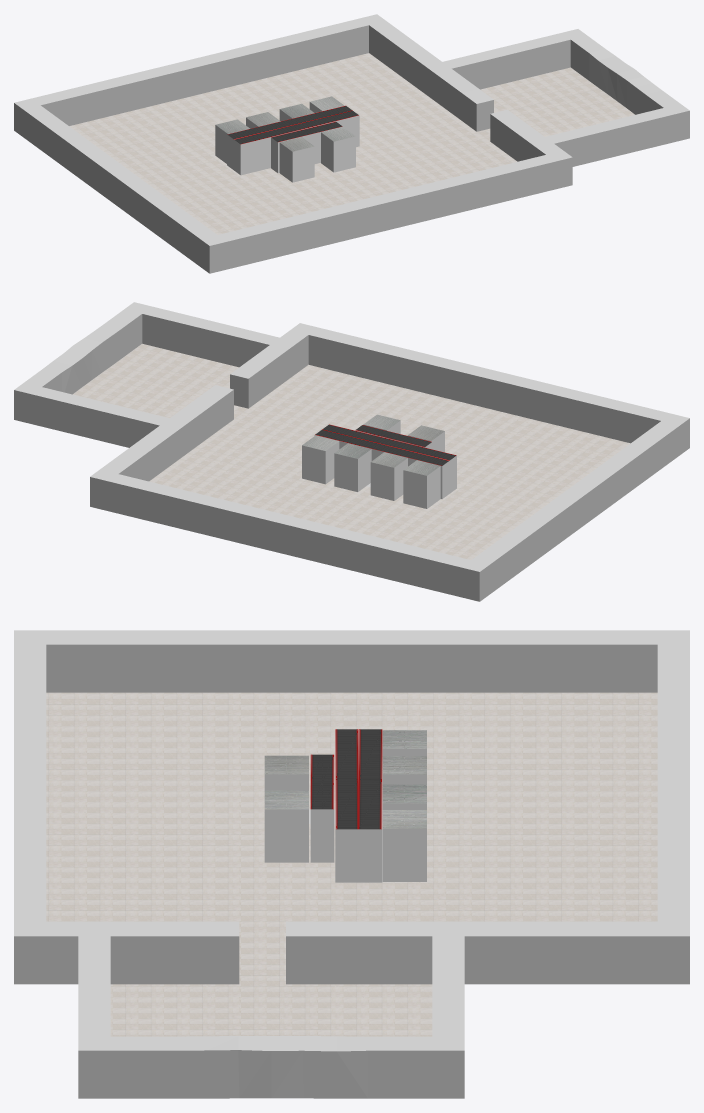
Rendered from env.dae.
3 renders of one model, top to bottom at view 1: azimuth 30°, elevation 25°; view 2: azimuth 150°, elevation 25°; view 3: azimuth 270°, elevation 25°, orthographic. The views are drawn at different scales.
Visible parts, largest first — view 1: Aa(2); view 2: Aa(2); view 3: Aa(2).
Boxes of the visible parts, <box> form: Aa(2): <box>14,14,689,273</box>; Aa(2): <box>14,302,689,601</box>; Aa(2): <box>14,630,689,1098</box>.
Size of the model in its own units: 16.92 by 11.47 by 1.
